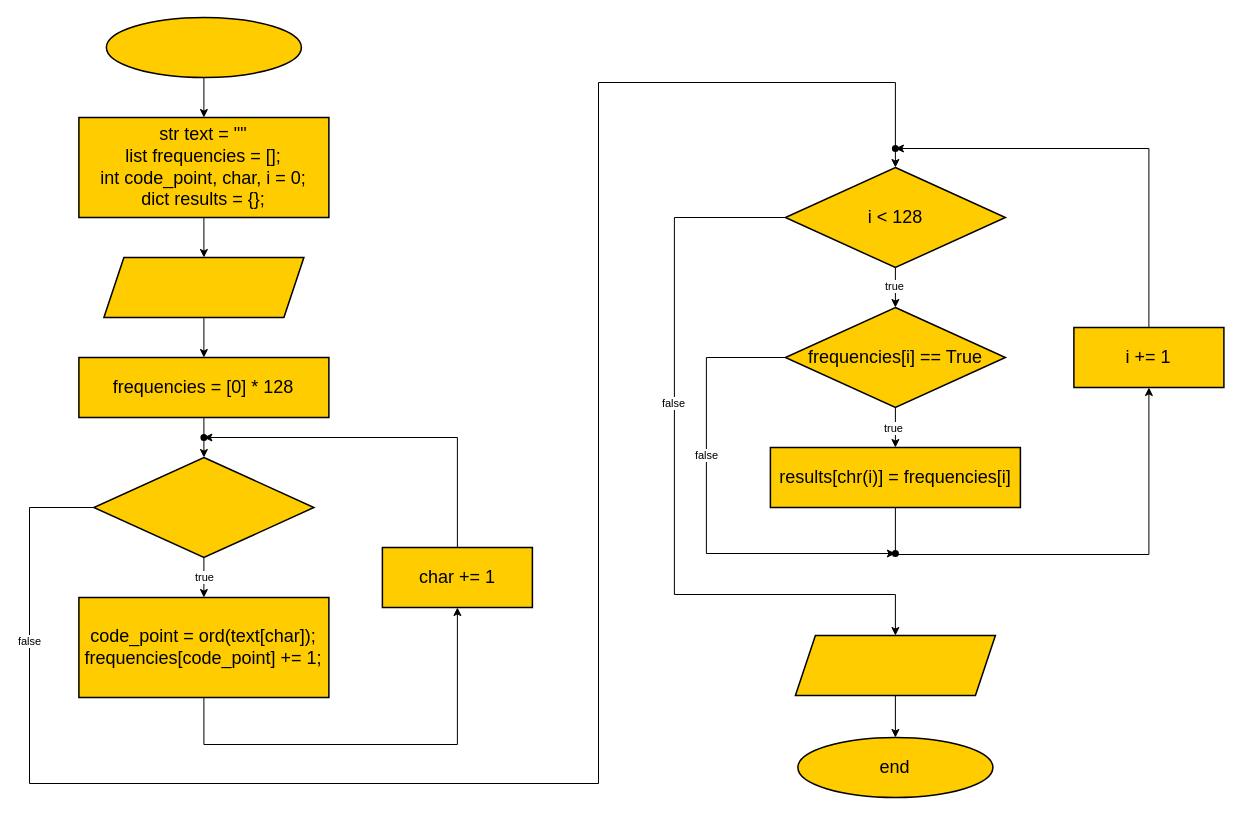
This 1242x816 diagram has some shape labels left out. Here are the shapes that lost their labels. From the top down, the centre of each, then its label:
point 203,47: start
point 203,287: text
point 203,507: char < text.length
point 895,665: results
